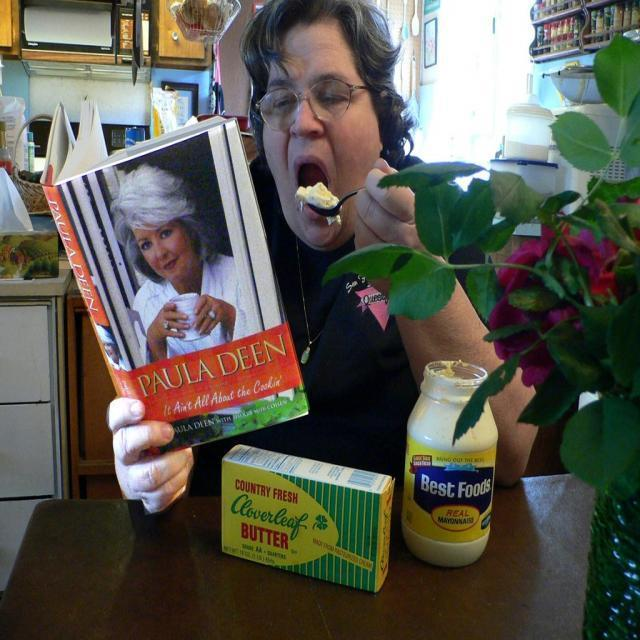book: (57, 114, 313, 456)
